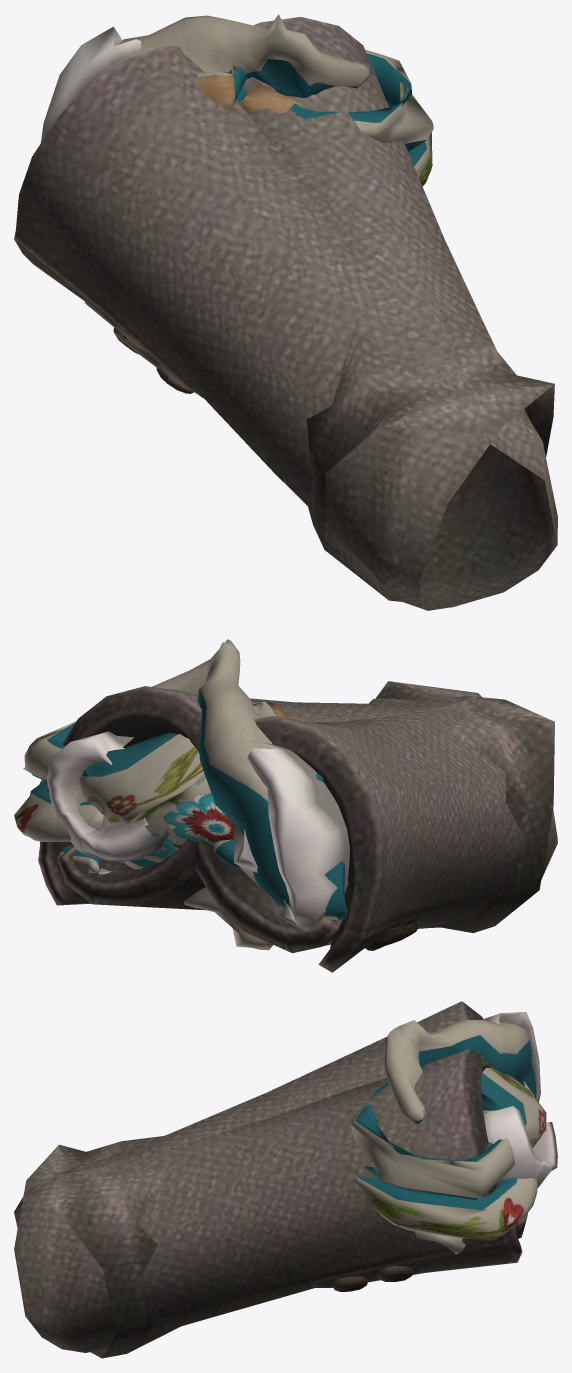
The model's file is maos_volante.glb.
The picture shows the model from 3 angles, top to bottom: view 1: azimuth 30°, elevation 25°; view 2: azimuth 150°, elevation 25°; view 3: azimuth 270°, elevation 25°; orthographic projection. The views are drawn at different scales.
Visible parts, largest first — view 1: MaoEsq, MaoDir; view 2: MaoEsq, MaoDir; view 3: MaoDir, MaoEsq.
Part boxes in pixels (left/top/right/bottom): MaoEsq: left=14, top=14, right=554, bottom=610; MaoDir: left=196, top=17, right=557, bottom=607; MaoEsq: left=14, top=639, right=557, bottom=972; MaoDir: left=38, top=686, right=554, bottom=950; MaoDir: left=14, top=1048, right=557, bottom=1352; MaoEsq: left=14, top=1001, right=540, bottom=1358.
Size of the model in its own units: 0.1663 by 0.1778 by 0.2579.
3 materials, 3 textured.
